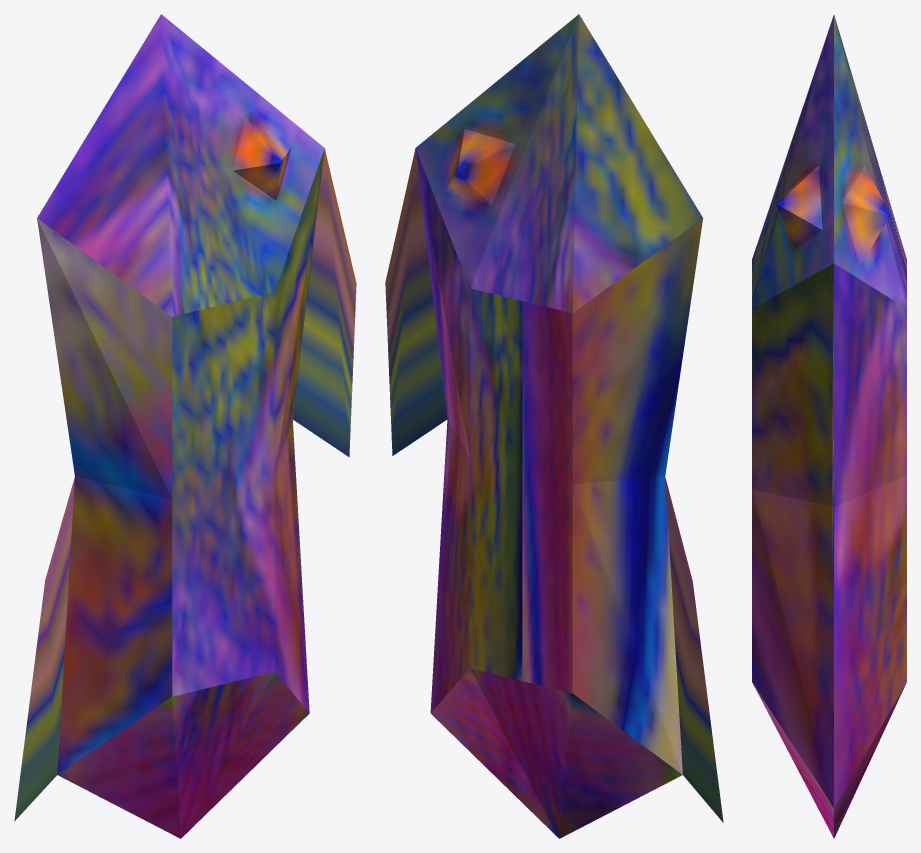
File: Bait.fbx
3 views of the same model, side by side, from view 1: azimuth 30°, elevation 25°; view 2: azimuth 150°, elevation 25°; view 3: azimuth 270°, elevation 25° (orthographic).
Parts seen in each view (by area): view 1: Cube; view 2: Cube; view 3: Cube.
Part boxes in pixels (<box>): Cube: <box>14,14,356,838</box>; Cube: <box>385,14,723,838</box>; Cube: <box>752,14,906,838</box>.
Size of the model in its own units: 237 by 551 by 94.89.
1 material, 1 textured.
